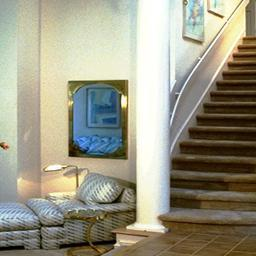Escaleras: (159, 34, 255, 227)
